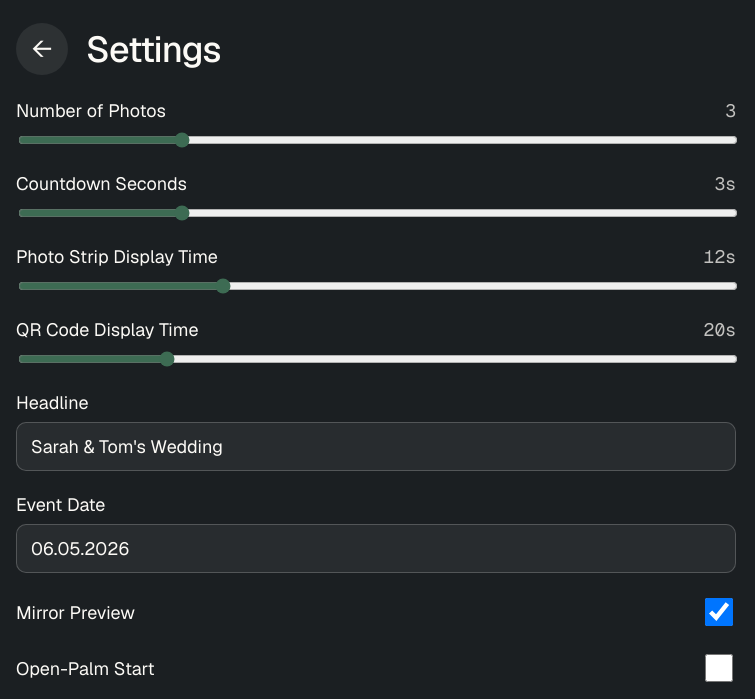
Settings › moving a slider sends just that field and shows the validated result
The image size is (755, 699).
Set the slider labelled "Number of Photos" to "5" at (339, 140), box x1=18 y1=132 x2=738 y2=148
(page scrolled)
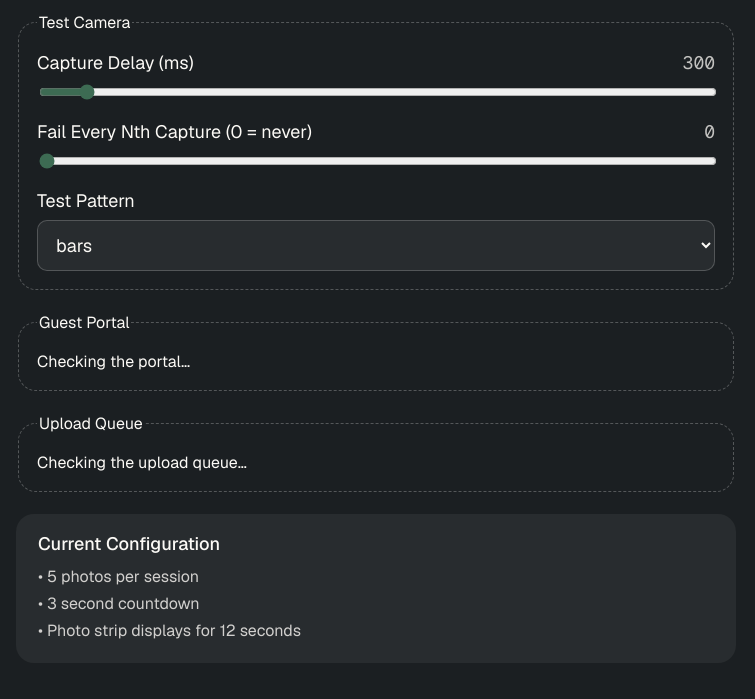
Result: the list item "• 5 photos per session" is shown at x1=38 y1=566 x2=199 y2=587
